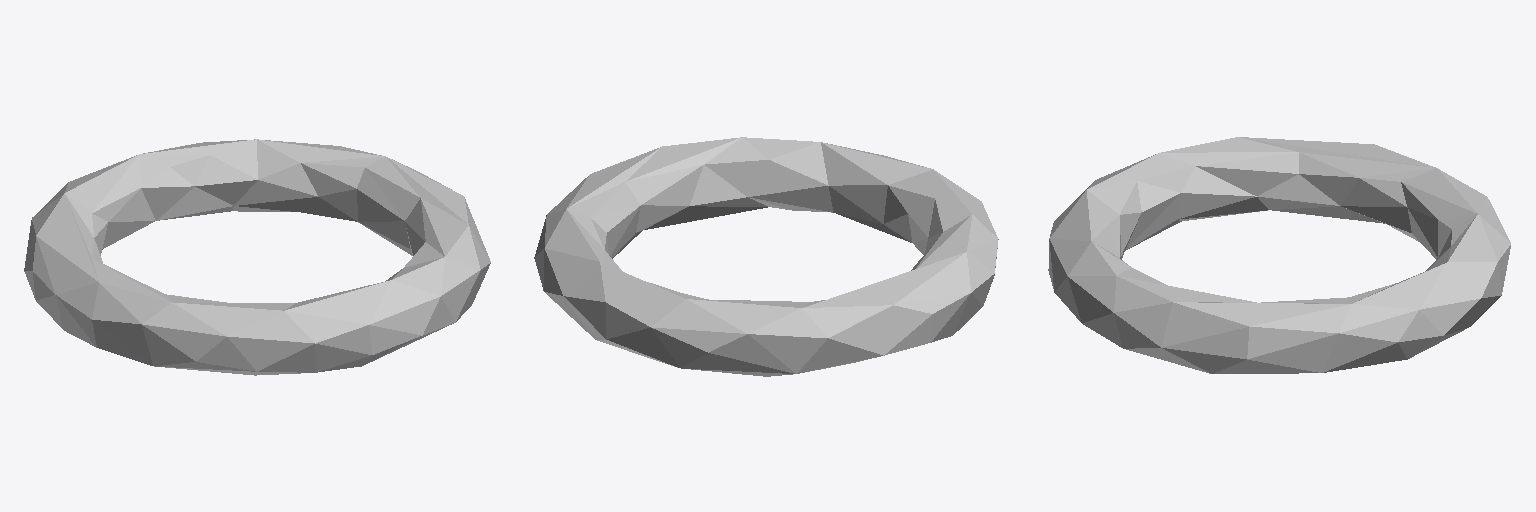
3 views of the same model, side by side, from view 1: azimuth 30°, elevation 25°; view 2: azimuth 150°, elevation 25°; view 3: azimuth 270°, elevation 25° (orthographic).
Visible parts, largest first — view 1: SketchUp_ID2; view 2: SketchUp_ID2; view 3: SketchUp_ID2.
Boxes of the visible parts, x1,y1,x2,y2 form: SketchUp_ID2: [24, 139, 490, 375]; SketchUp_ID2: [534, 137, 998, 376]; SketchUp_ID2: [1048, 137, 1510, 373].
Bounding box in the file's own units: 4.37 × 0.7239 × 4.34.